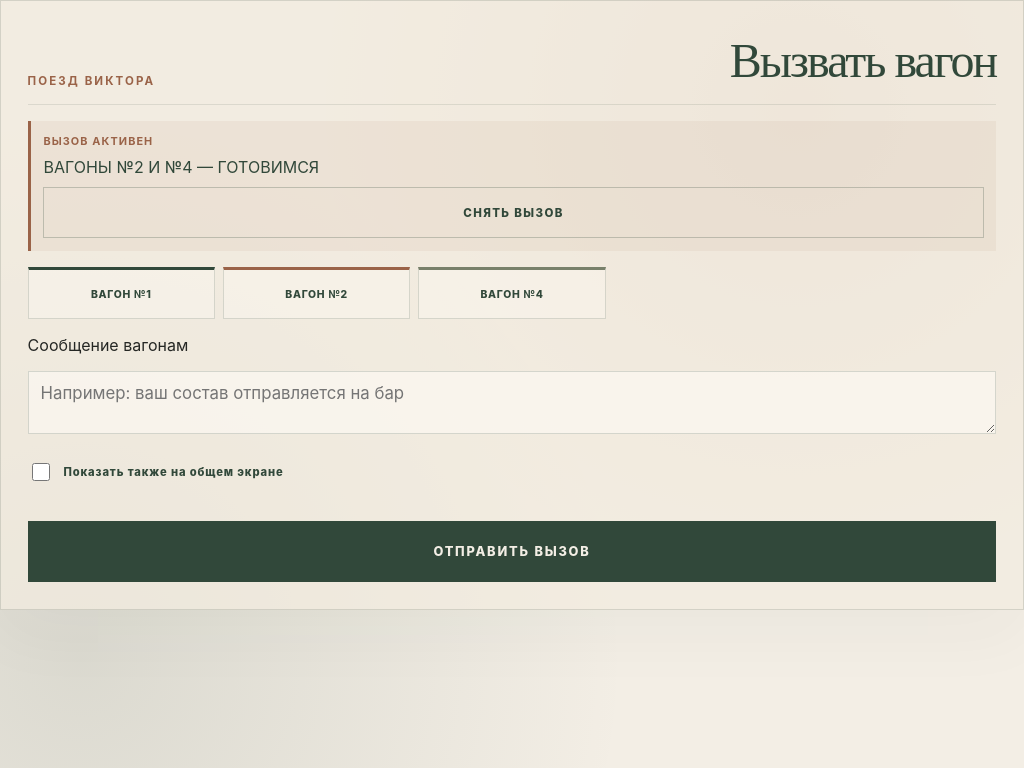
AdminCarriageCalls › clears the active call and keeps its carriage targets for realtime refresh
Click the button "СНЯТЬ ВЫЗОВ": (514,213) [43, 187, 984, 238]
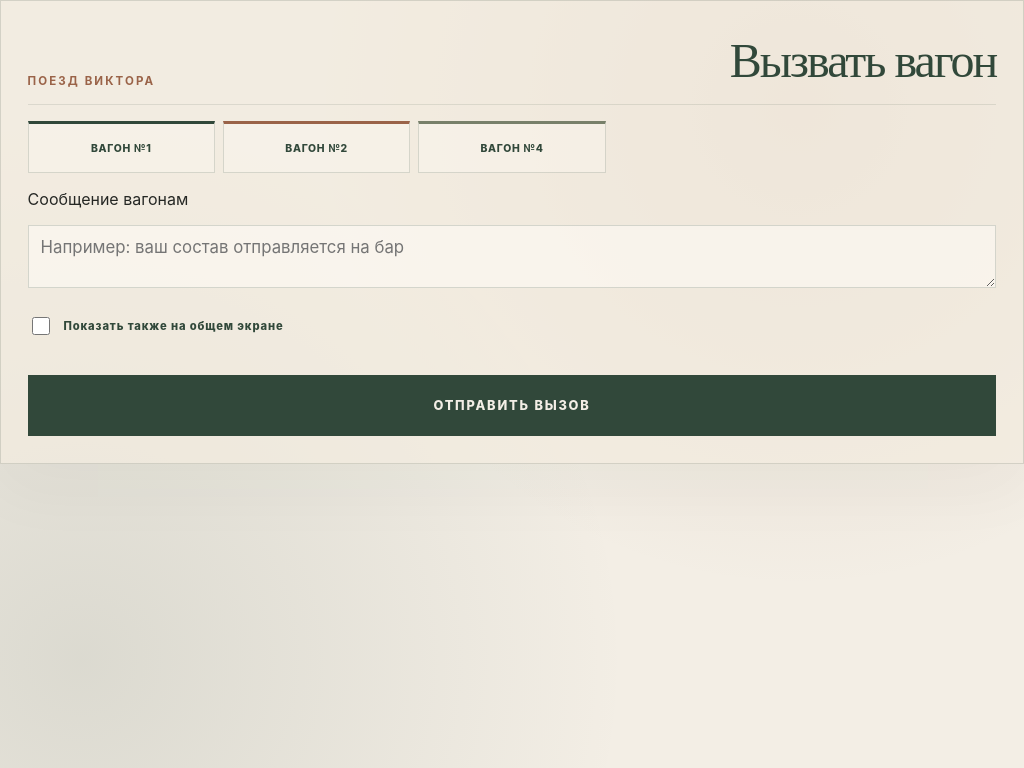
Result: the text "ВЫЗОВ АКТИВЕН" is gone
